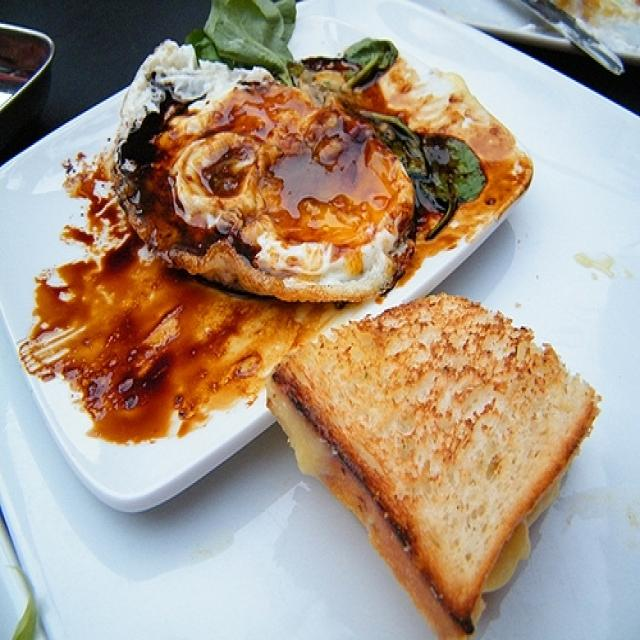面包点心: (26, 30, 620, 612)
